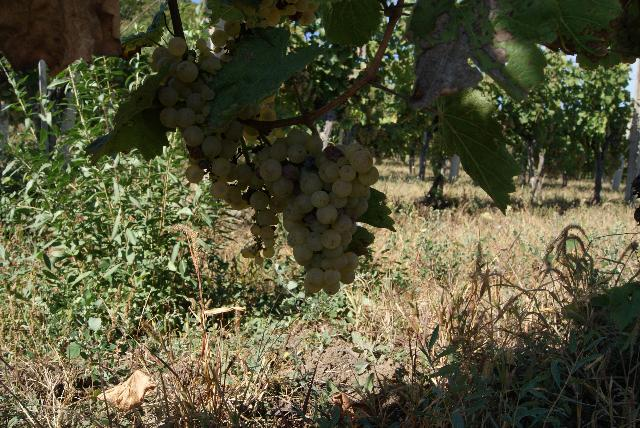grapes: (260, 130, 379, 295), (151, 36, 241, 199), (210, 158, 278, 259)
